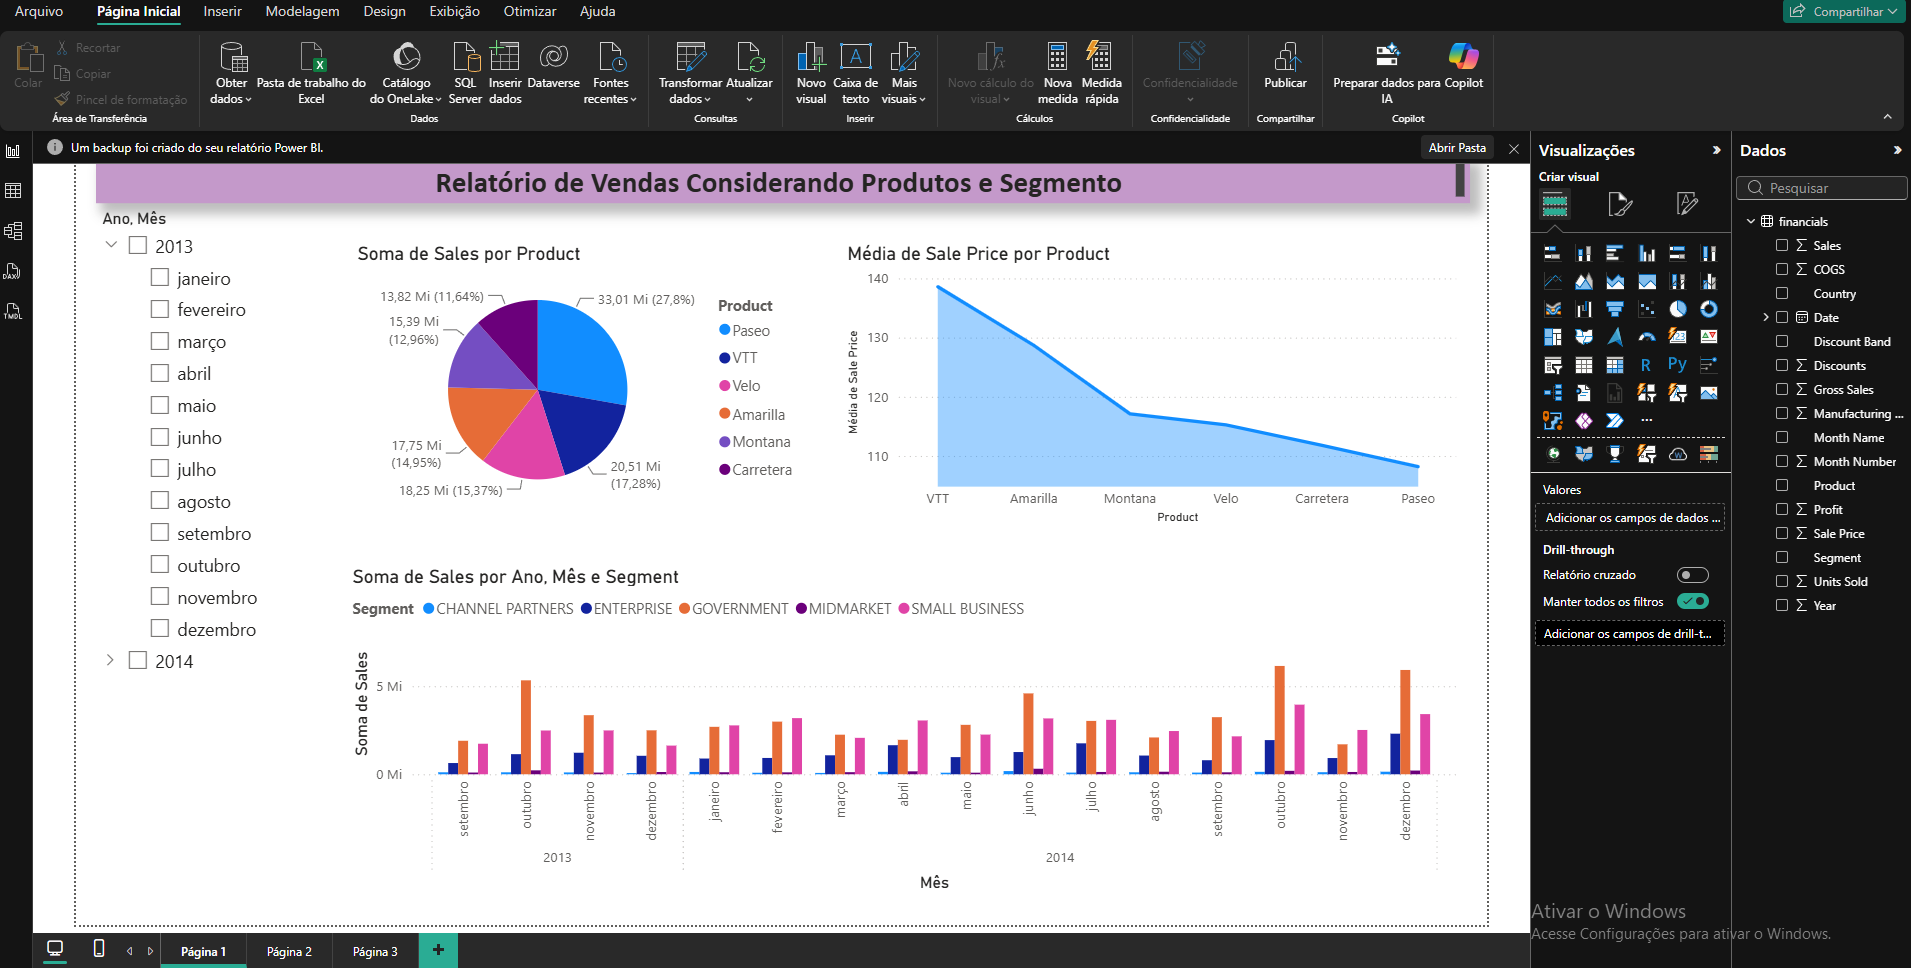

Layout of this report page (visuals, bound fields, positions):
{"tool":"powerbi","page":{"name":"Página 1","canvas":[1280,720],"ordinal":0},"visuals":[{"type":"pieChart","fields":{"Category":["financials.Product"],"Y":["Sum(financials. Sales)"]},"box":[250.2,100.4,413.8,248.9],"z":0},{"type":"areaChart","fields":{"Category":["financials.Product"],"Y":["Avg(financials.Sale Price)"]},"box":[694.3,100.4,562.3,259.8],"z":1000},{"type":"clusteredColumnChart","fields":{"Category":["financials.Date.Variation.Hierarquia de datas.Ano","financials.Date.Variation.Hierarquia de datas.Mês"],"Series":["financials.Segment"],"Y":["Sum(financials. Sales)"]},"box":[246.1,393.2,1010.5,301.1],"z":2000},{"type":"slicer","fields":{"Values":["financials.Date.Variation.Hierarquia de datas.Ano","financials.Date.Variation.Hierarquia de datas.Mês"]},"box":[11,66,226.9,628.3],"z":3000},{"type":"textbox","box":[17.9,24.7,1245.6,41.2],"z":4000}]}

Visuals, with their boxes on the page's 1280x720 design canvas (x1, y1, x2, y2). These are canvas units, not pixel positions in the 1911x968 screenshot, which may show the page scaled, cropped or inside an application window:
pieChart - financials.Product x Sum(financials. Sales): 250 100 664 349
areaChart - financials.Product x Avg(financials.Sale Price): 694 100 1257 360
clusteredColumnChart - financials.Date.Variation.Hierarquia de datas.Ano x financials.Date.Variation.Hierarquia de datas.Mês: 246 393 1257 694
slicer - financials.Date.Variation.Hierarquia de datas.Ano x financials.Date.Variation.Hierarquia de datas.Mês: 11 66 238 694
textbox: 18 25 1264 66
